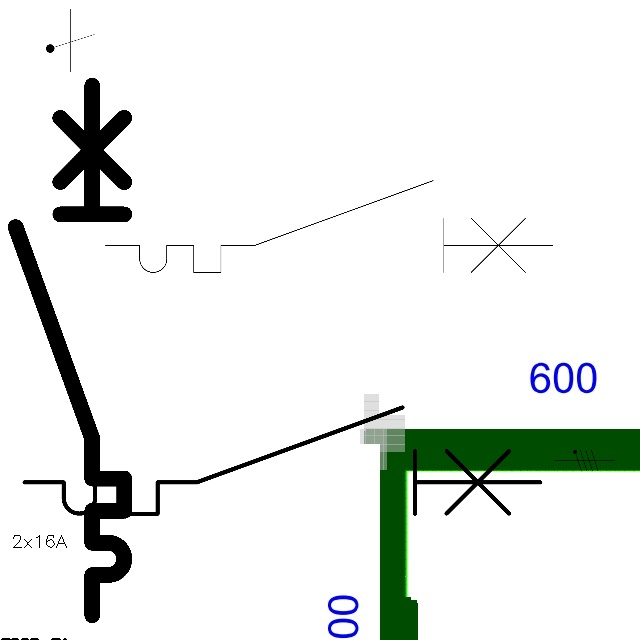interruptor_termomagnetico: (2, 72, 138, 629), (11, 394, 553, 527), (94, 169, 563, 284)
